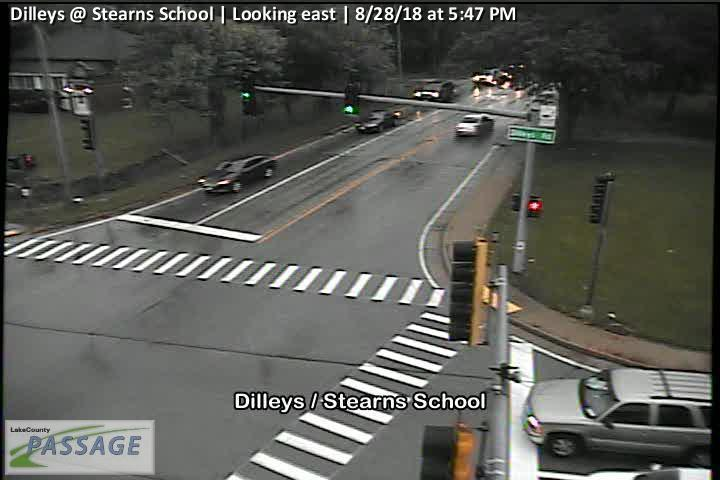SUV: (520, 367, 720, 468), (197, 154, 278, 194), (413, 79, 455, 103), (473, 68, 501, 85)
Sedan: (355, 109, 400, 134), (455, 113, 496, 136)
